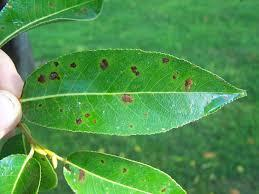leaf_spot: (19, 44, 231, 151)
